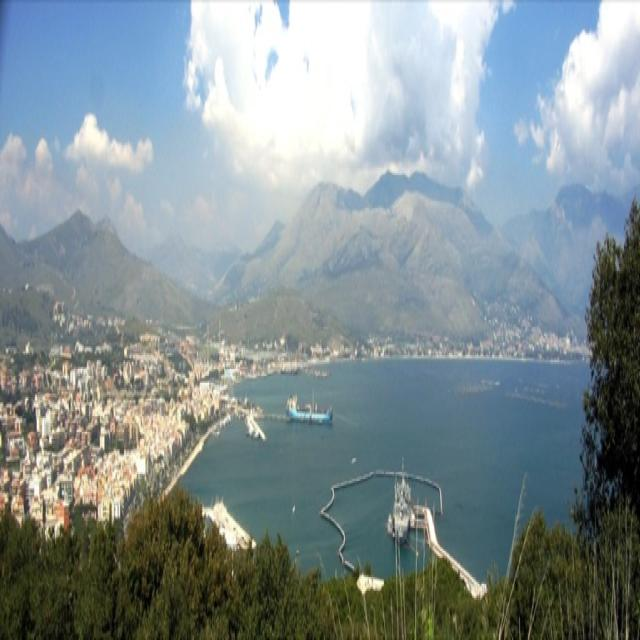Boat: (387, 454, 414, 540), (287, 394, 332, 425), (248, 405, 263, 445)
